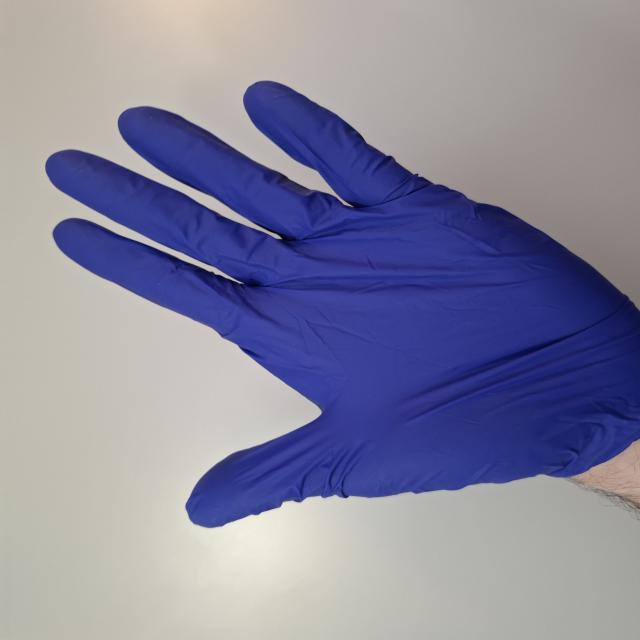glove_on: (42, 78, 640, 530)
